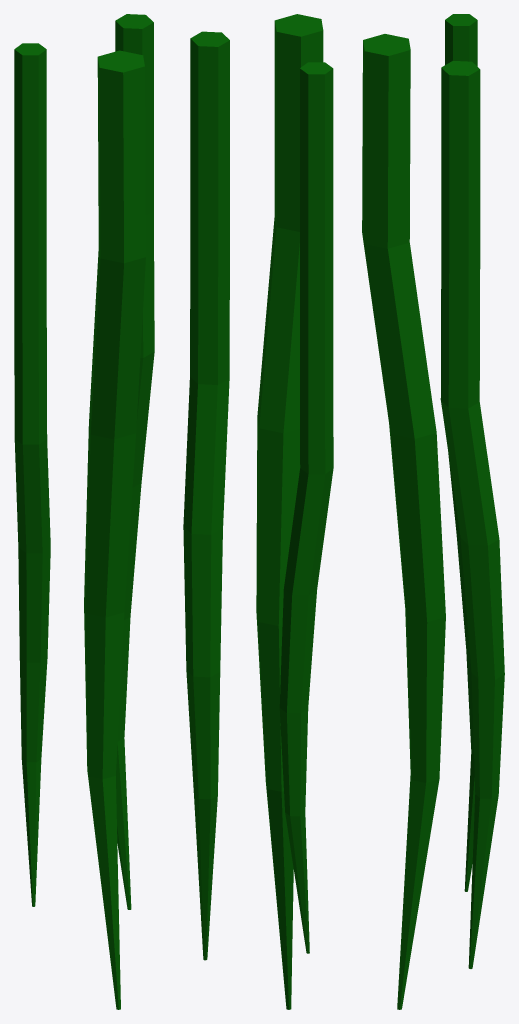
File: vine_group_3.glb
3 renders of one model, left to right at view 1: azimuth 30°, elevation 25°; view 2: azimuth 150°, elevation 25°; view 3: azimuth 270°, elevation 25°, orthographic. The views are drawn at different scales.
Parts seen in each view (by area): view 1: vine-col, vine.003-col, vine.004-col; view 2: vine.004-col, vine-col, vine.003-col; view 3: vine-col, vine.004-col, vine.003-col.
Boxes of the visible parts, bbox=[...] form: vine-col: bbox=[84, 50, 145, 1009]; vine.003-col: bbox=[14, 43, 50, 906]; vine.004-col: bbox=[115, 14, 154, 909]; vine.004-col: bbox=[183, 31, 229, 960]; vine-col: bbox=[256, 14, 323, 1009]; vine.003-col: bbox=[279, 62, 333, 953]; vine-col: bbox=[362, 34, 445, 1009]; vine.004-col: bbox=[440, 61, 504, 968]; vine.003-col: bbox=[445, 14, 477, 891].
Size of the model in its own units: 0.6161 by 4.26 by 0.5721.
